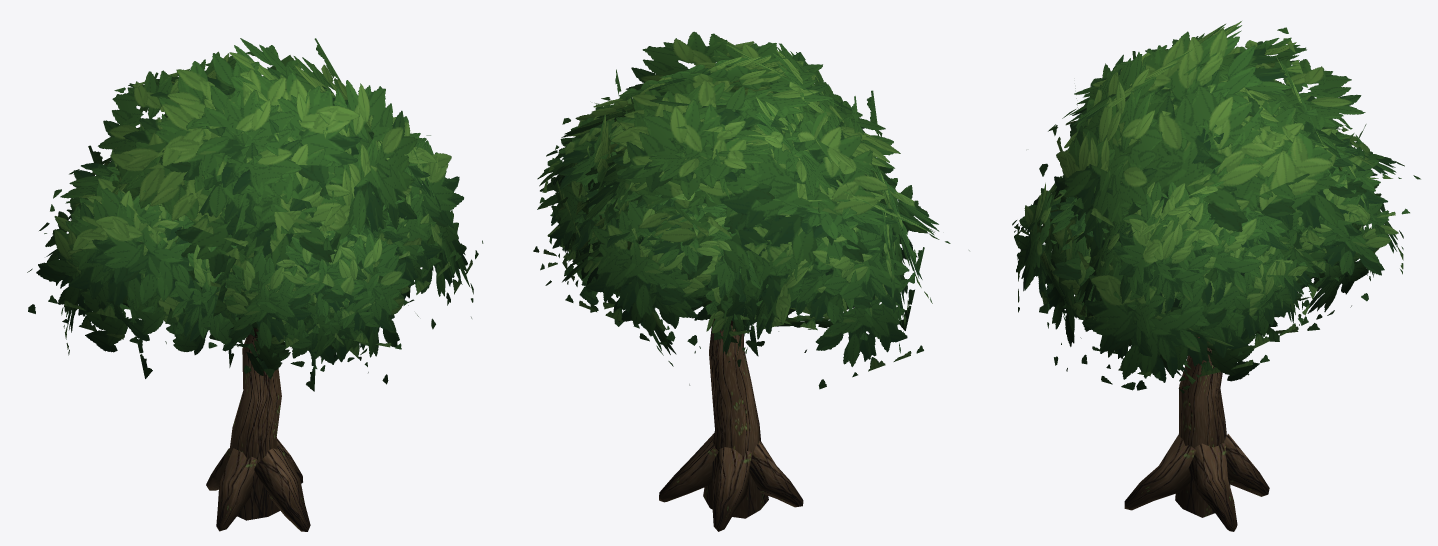
The model's file is tree_oak_dark.glb.
The picture shows the model from 3 angles, left to right: view 1: azimuth 30°, elevation 25°; view 2: azimuth 150°, elevation 25°; view 3: azimuth 270°, elevation 25°; orthographic projection. The views are drawn at different scales.
Visible parts, largest first — view 1: tree_oak_dark; view 2: tree_oak_dark; view 3: tree_oak_dark.
Boxes of the visible parts, bbox=[...] form: tree_oak_dark: bbox=[27, 38, 483, 531]; tree_oak_dark: bbox=[533, 31, 969, 531]; tree_oak_dark: bbox=[1012, 21, 1420, 531].
Bounding box in the file's own units: 4.78 × 5.04 × 4.03.
Materials: 2 (2 with a texture image).
